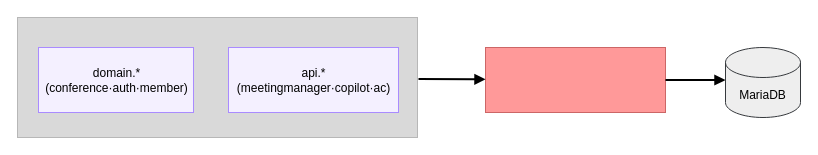
This 818x155 diagram has some shape labels left out. The shapes that lost their labels are listed below. From the top down, each one's box as (x1, y1, x2, y2) in pixels, then its label:
(16, 16, 418, 138): 패키지 분리됨 (컨벤션)
(484, 46, 666, 112): 단일 HikariCP DataSource (모든 도메인 공유)
